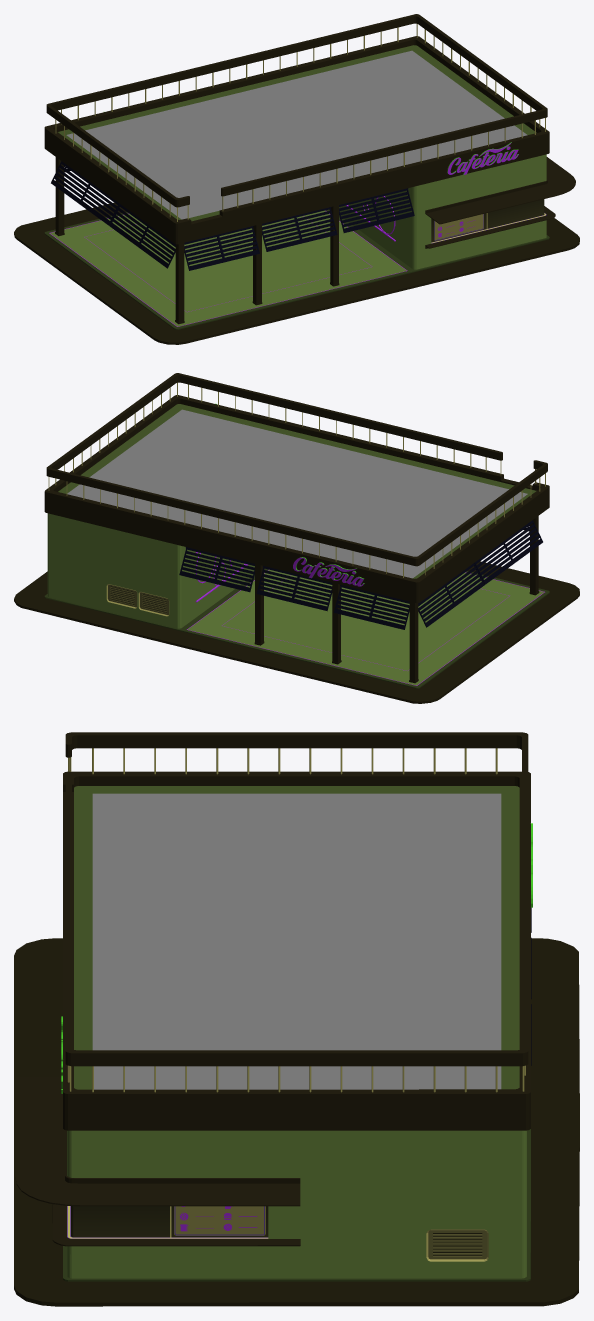
The model's file is Building_Cafe_005_L1.fbx.
The picture shows the model from 3 angles, top to bottom: view 1: azimuth 30°, elevation 25°; view 2: azimuth 150°, elevation 25°; view 3: azimuth 270°, elevation 25°; orthographic projection. The views are drawn at different scales.
Visible parts, largest first — view 1: Building_Cafe_005_L1; view 2: Building_Cafe_005_L1; view 3: Building_Cafe_005_L1.
Part boxes in pixels (x1,y1,x2,y2): Building_Cafe_005_L1: [14, 14, 579, 344]; Building_Cafe_005_L1: [14, 373, 579, 703]; Building_Cafe_005_L1: [14, 732, 579, 1306].
Bounding box in the file's own units: 19.87 × 5.88 × 13.04.
